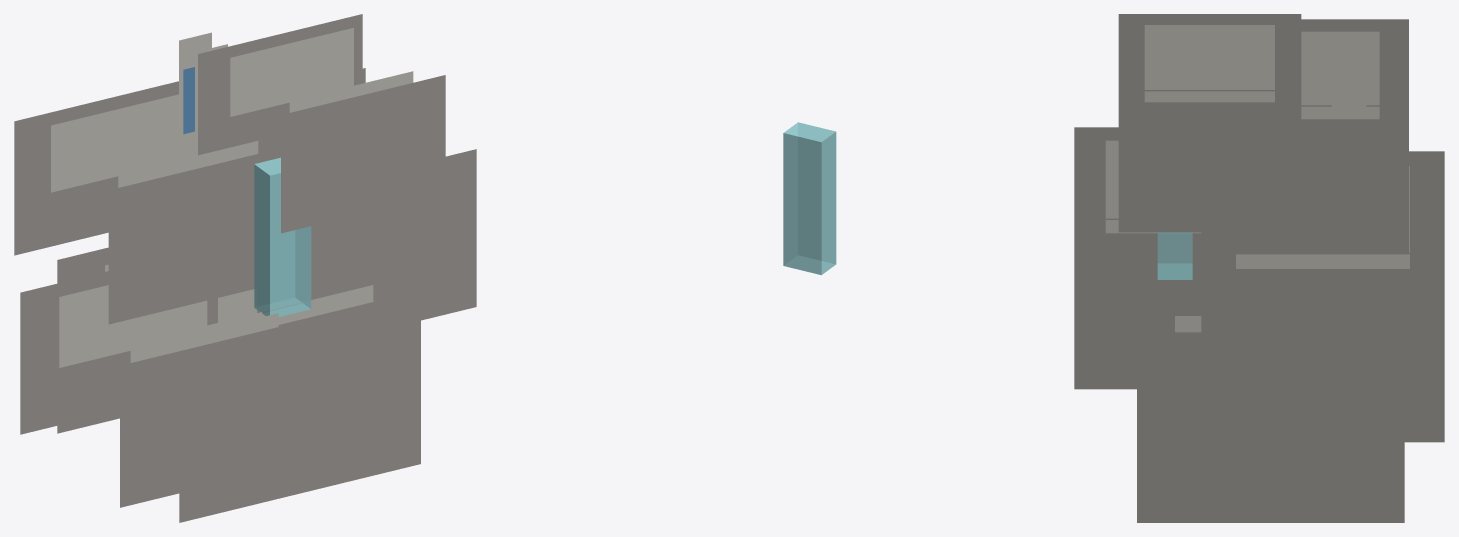
The model's file is voxel-jinan-rockery.gltf.
3 views of the same model, side by side, from view 1: azimuth 30°, elevation 25°; view 2: azimuth 150°, elevation 25°; view 3: azimuth 270°, elevation 25° (orthographic). The views are drawn at different scales.
Bounding box in the file's own units: 3.02 × 2.72 × 2.13.
